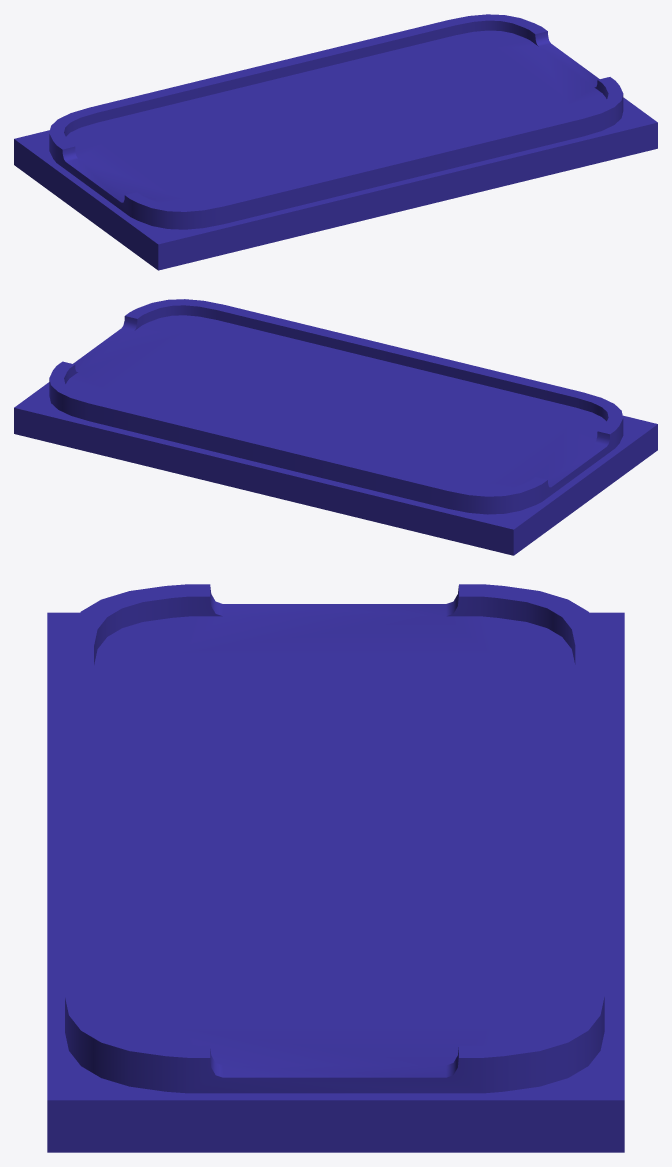
The model's file is Floor_M_A.FBX.
The picture shows the model from 3 angles, top to bottom: view 1: azimuth 30°, elevation 25°; view 2: azimuth 150°, elevation 25°; view 3: azimuth 270°, elevation 25°; orthographic projection. The views are drawn at different scales.
Visible parts, largest first — view 1: Floor_M_A; view 2: Floor_M_A; view 3: Floor_M_A.
Boxes of the visible parts, x1=… form: Floor_M_A: x1=14, y1=14, x2=657, y2=270; Floor_M_A: x1=14, y1=299, x2=657, y2=555; Floor_M_A: x1=47, y1=584, x2=624, y2=1152.
Size of the model in its own units: 200 by 16.79 by 100.
